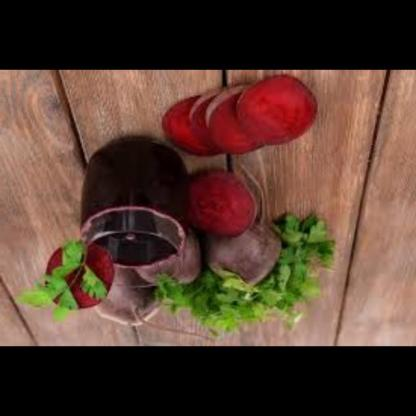beet: (203, 221, 281, 295), (237, 77, 320, 146), (188, 173, 259, 244), (42, 245, 115, 311), (202, 88, 266, 162), (94, 269, 162, 328), (160, 92, 220, 158), (134, 235, 204, 286)
